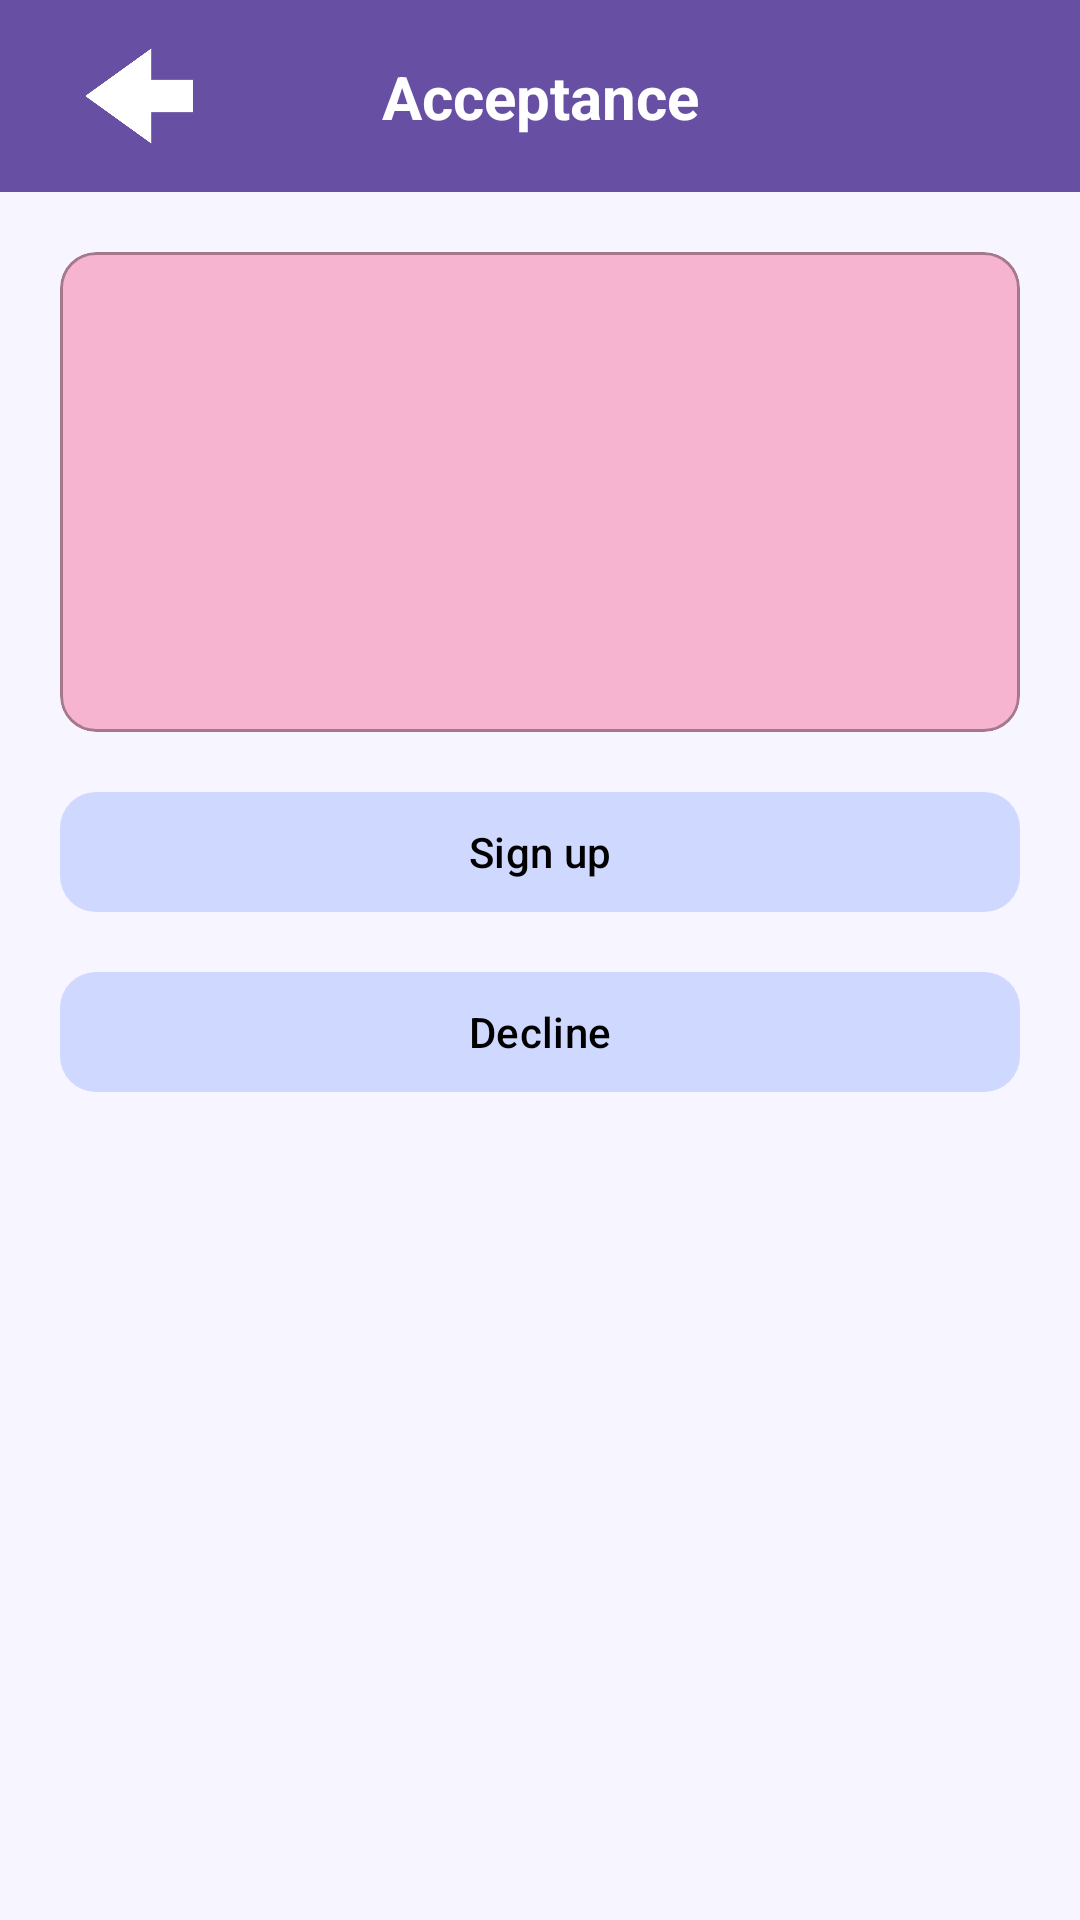

Where icons sit on this 1080*1920 app screen, as (x1, y1, x2, y2):
back arrow: (86, 48, 193, 144)
